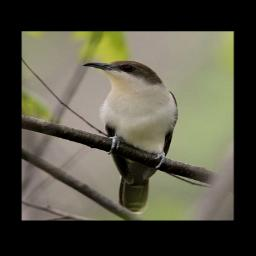Cuckoo: (82, 60, 179, 215)
